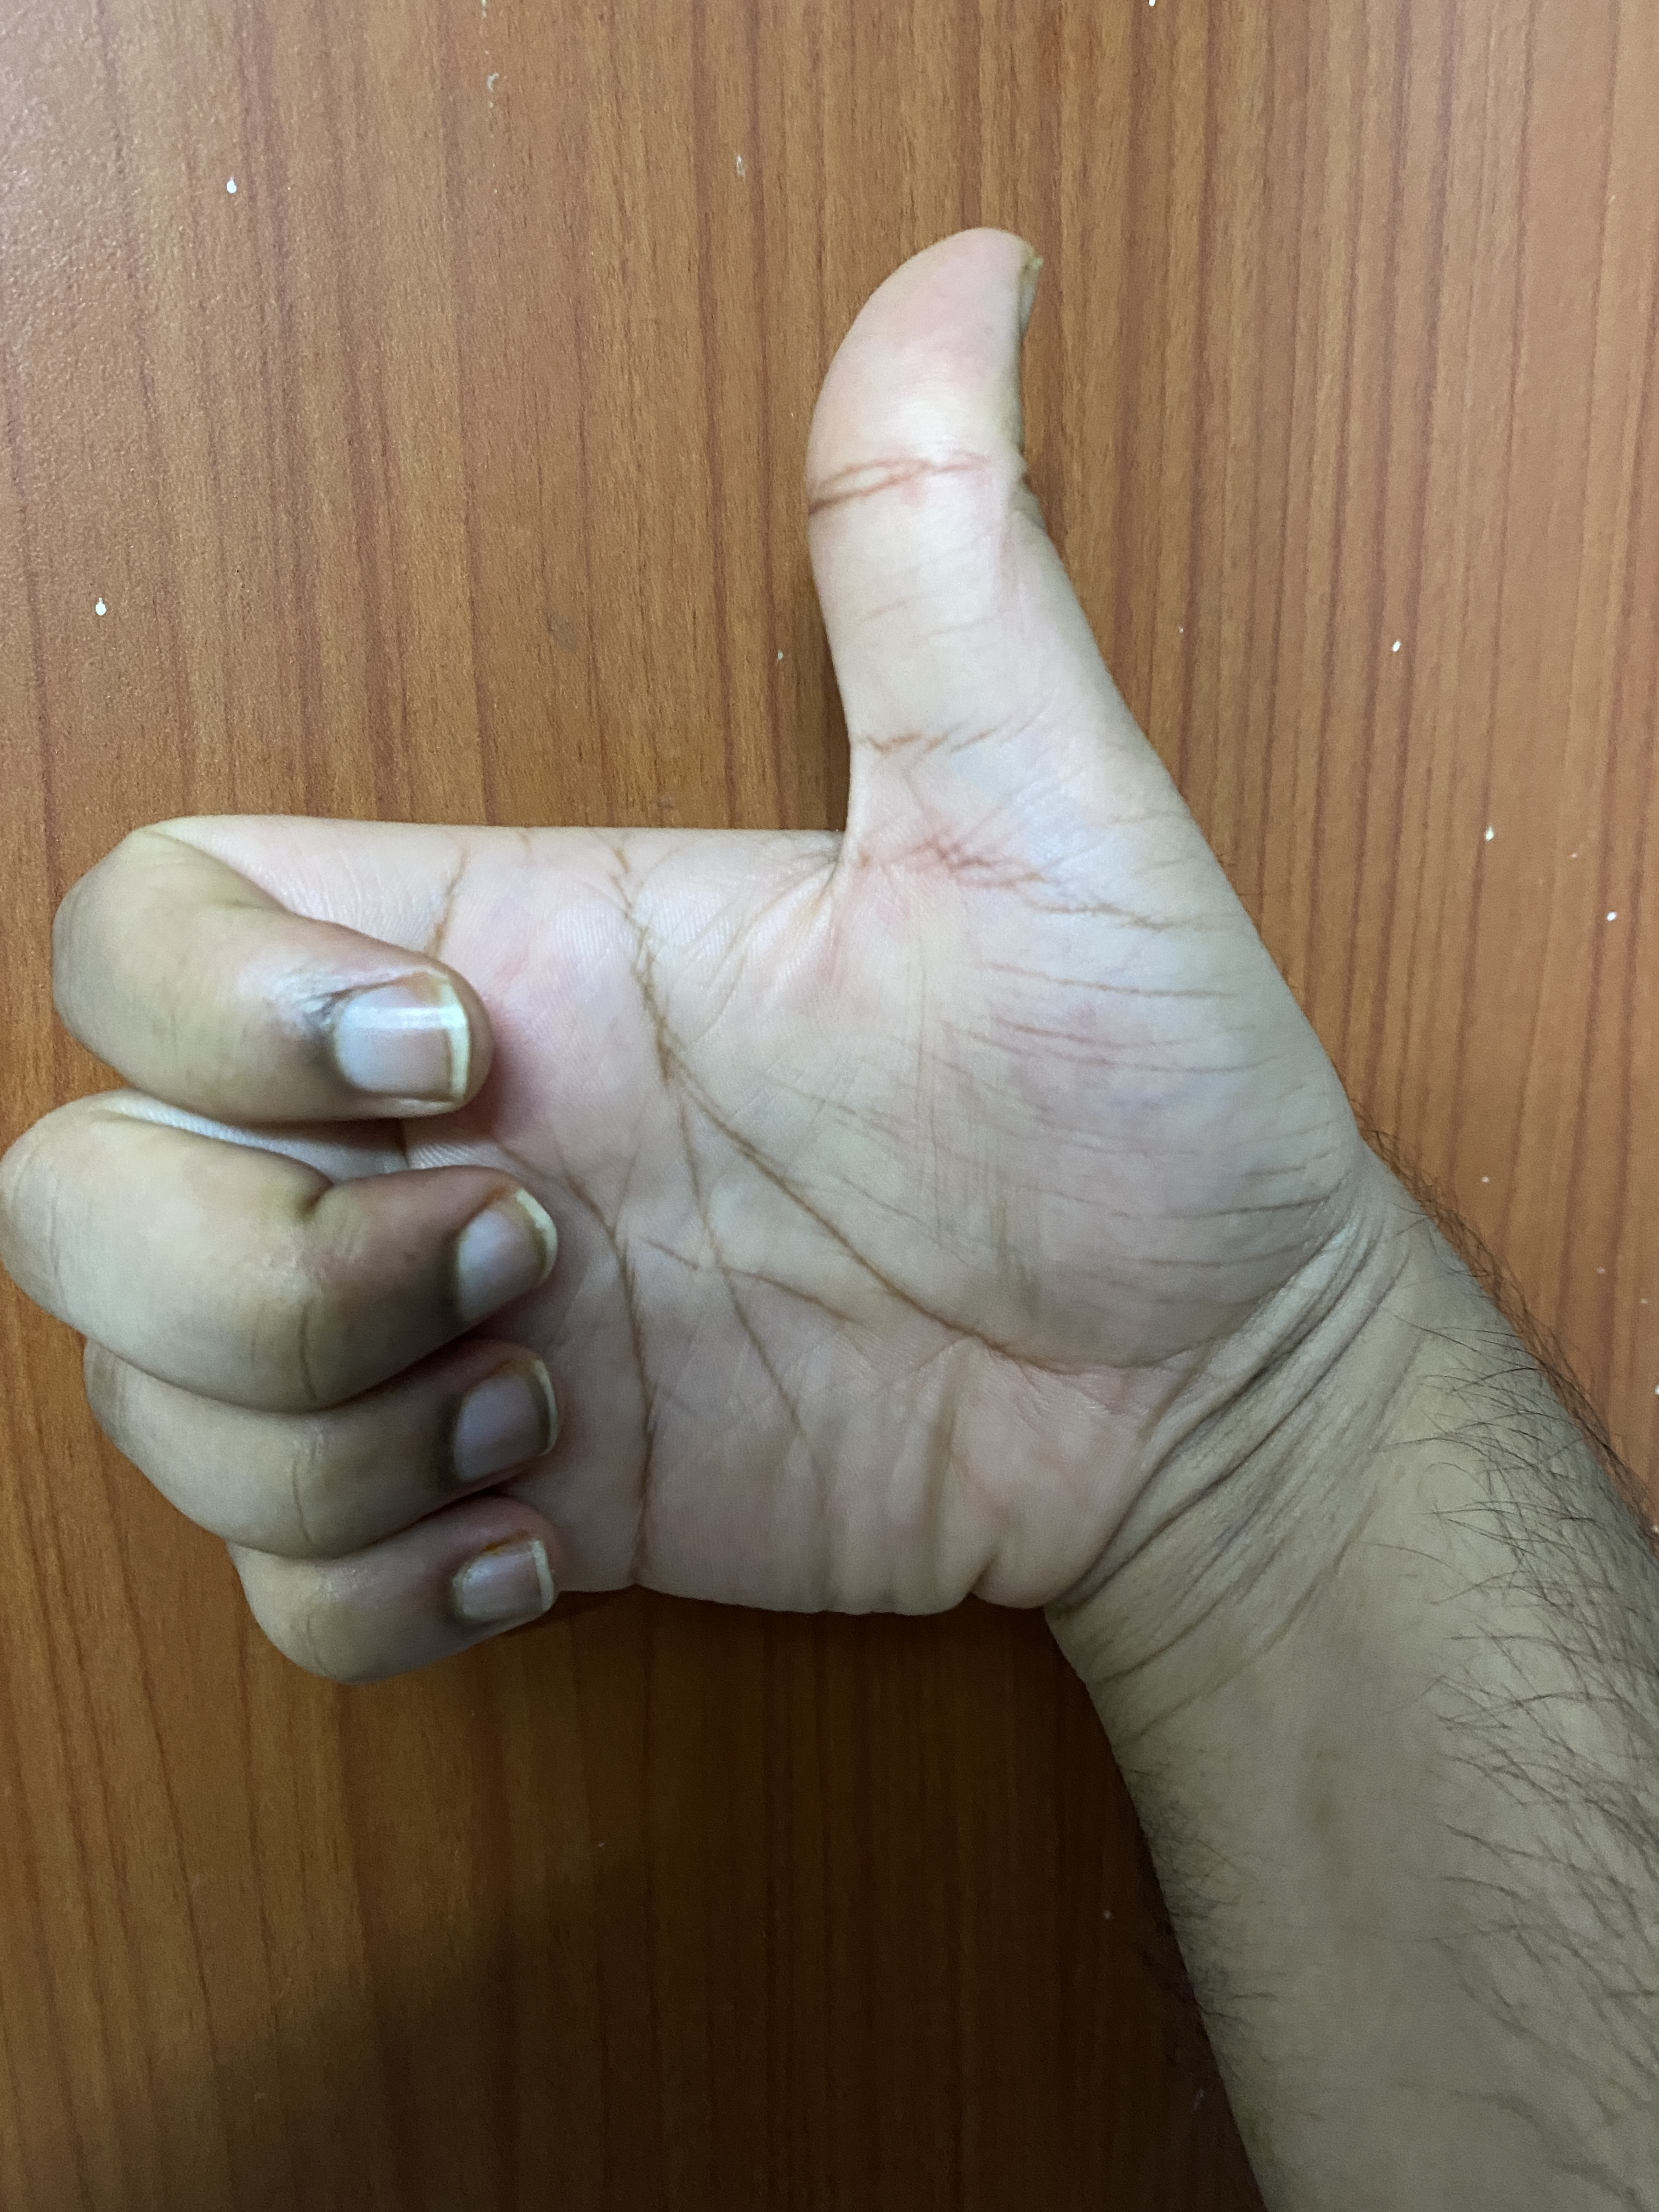up: (63, 219, 1650, 1975)
